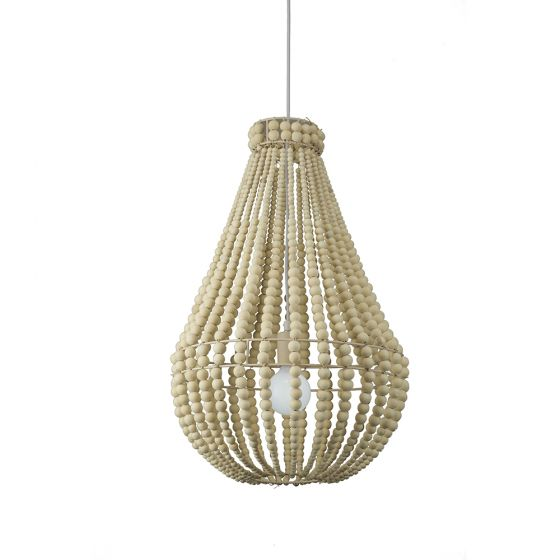chandelier: (153, 1, 424, 498)
